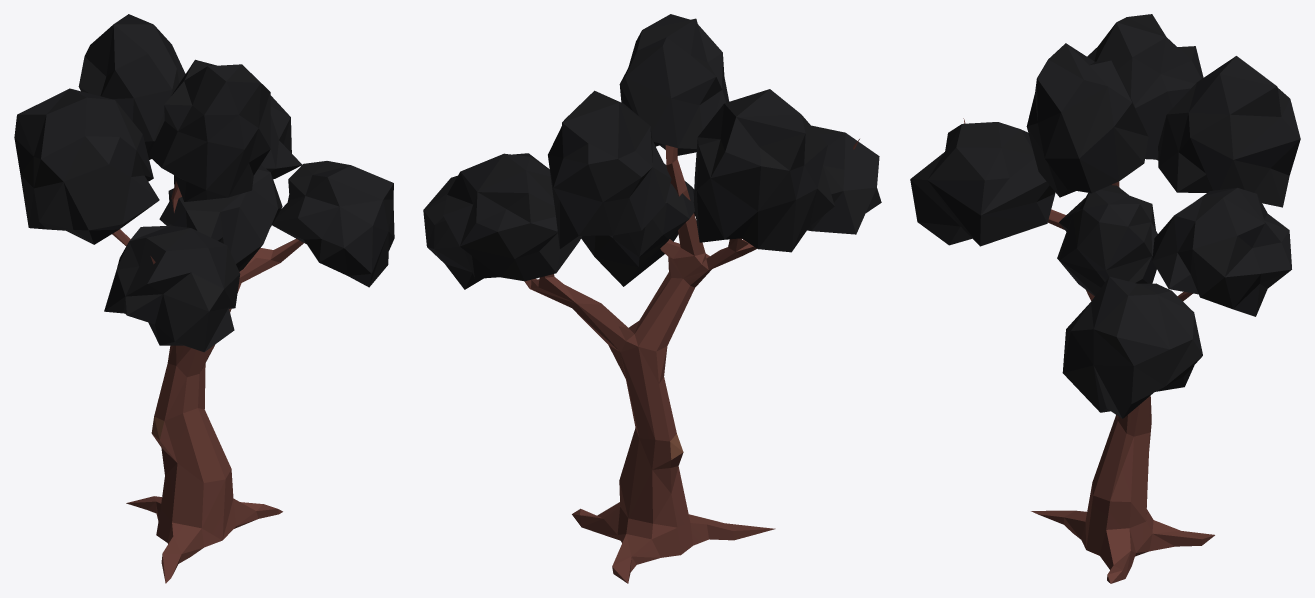
Rendered from Oak_large.fbx.
3 renders of one model, left to right at view 1: azimuth 30°, elevation 25°; view 2: azimuth 150°, elevation 25°; view 3: azimuth 270°, elevation 25°, orthographic. The views are drawn at different scales.
Parts seen in each view (by area): view 1: oak_crown_Large, oak_rtunk_Large; view 2: oak_crown_Large, oak_rtunk_Large; view 3: oak_crown_Large, oak_rtunk_Large.
Part boxes in pixels (box(x1,y1,x2,y2)): oak_crown_Large: box(14, 14, 394, 352); oak_rtunk_Large: box(112, 181, 303, 583); oak_crown_Large: box(423, 14, 881, 289); oak_rtunk_Large: box(524, 139, 859, 583); oak_crown_Large: box(910, 14, 1300, 418); oak_rtunk_Large: box(963, 118, 1214, 583).
Bounding box in the file's own units: 212 × 268 × 191.
